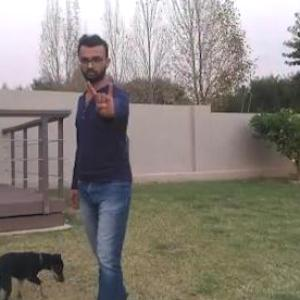takeoff-hand: (86, 69, 119, 120)
